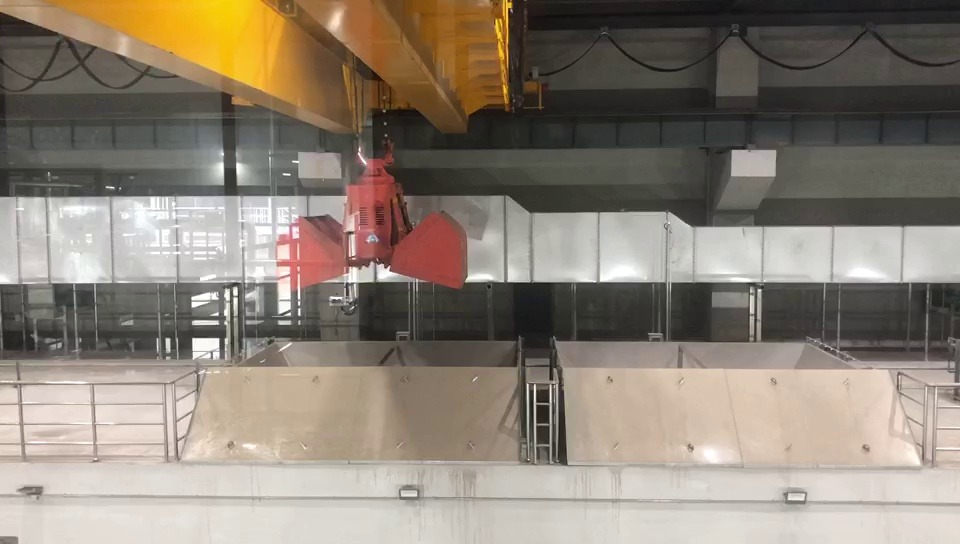grab: (272, 146, 471, 292)
